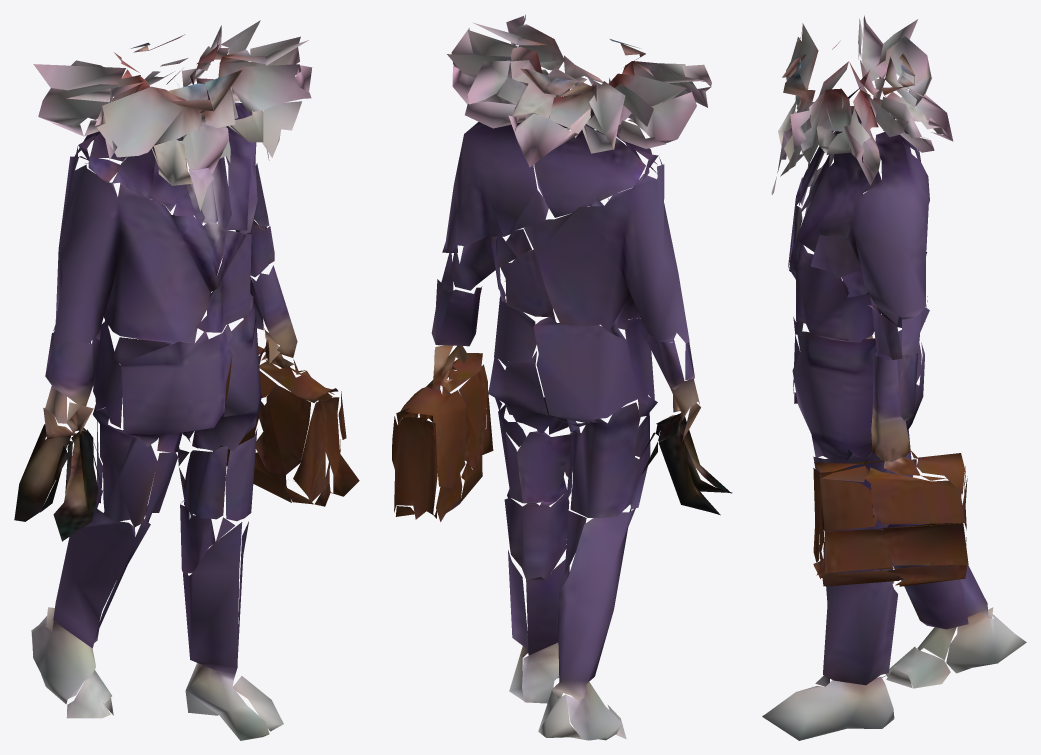
The model's file is crowd_workgirl_body.glb.
3 views of the same model, side by side, from view 1: azimuth 30°, elevation 25°; view 2: azimuth 150°, elevation 25°; view 3: azimuth 270°, elevation 25° (orthographic). The views are drawn at different scales.
Parts seen in each view (by area): view 1: tripo_node_4dcd1692-ba07-4971-a005-472ad7834de4; view 2: tripo_node_4dcd1692-ba07-4971-a005-472ad7834de4; view 3: tripo_node_4dcd1692-ba07-4971-a005-472ad7834de4.
Part boxes in pixels (left/top/right/bottom): tripo_node_4dcd1692-ba07-4971-a005-472ad7834de4: left=14, top=20, right=359, bottom=740; tripo_node_4dcd1692-ba07-4971-a005-472ad7834de4: left=392, top=14, right=732, bottom=740; tripo_node_4dcd1692-ba07-4971-a005-472ad7834de4: left=762, top=15, right=1026, bottom=740.
Size of the model in its own units: 0.4018 by 0.8025 by 0.3014.
1 material, 1 textured.
